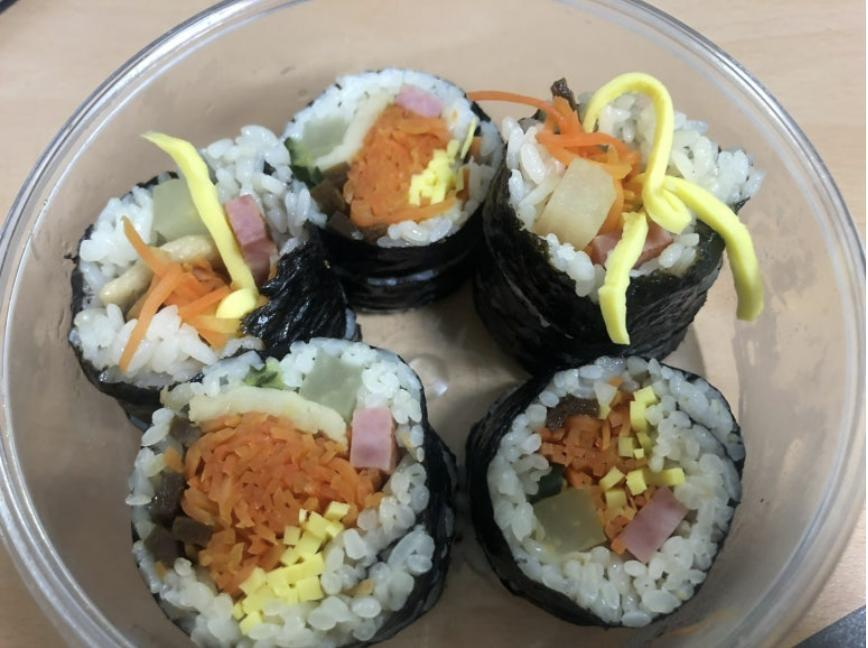Lunch Box: (0, 0, 865, 647)
